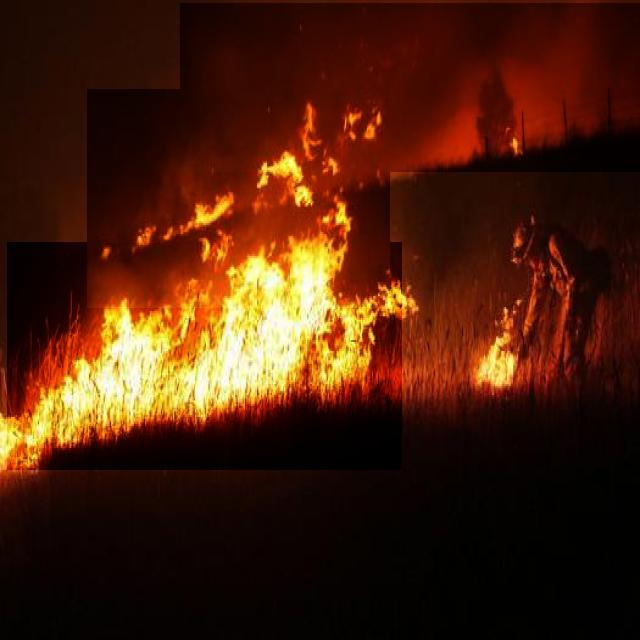Fire: (7, 242, 402, 470), (87, 89, 390, 308)
Smoke: (180, 3, 640, 172)
